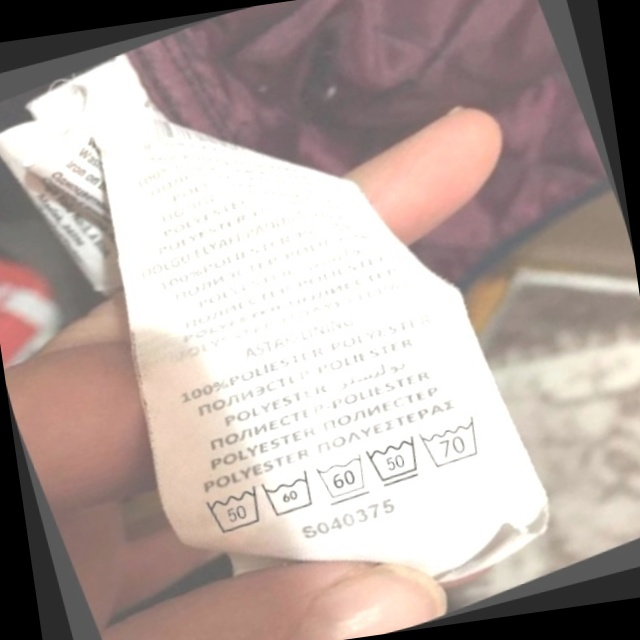50C: (193, 472, 276, 547), (358, 426, 434, 497)
60C: (309, 443, 381, 512), (254, 460, 327, 528)
70C: (414, 406, 496, 477)
